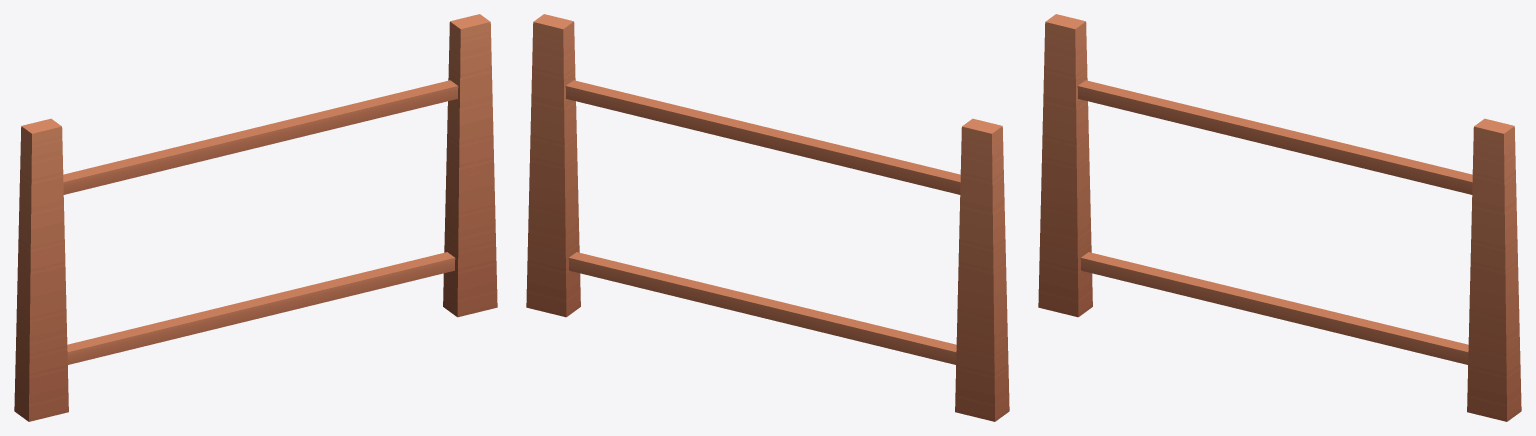
Rendered from camp-fence-v1.glb.
3 renders of one model, left to right at view 1: azimuth 30°, elevation 25°; view 2: azimuth 150°, elevation 25°; view 3: azimuth 330°, elevation 25°, orthographic.
Parts seen in each view (by area): view 1: camp_fence_v1_0; view 2: camp_fence_v1_0; view 3: camp_fence_v1_0.
Part boxes in pixels (x1,y1,x2,y2): camp_fence_v1_0: (14, 14, 497, 421); camp_fence_v1_0: (526, 14, 1009, 421); camp_fence_v1_0: (1038, 14, 1521, 421).
Size of the model in its own units: 1.6 by 0.9314 by 0.0856.
Materials: 1 (1 with a texture image).
